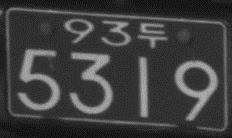1: (125, 55, 163, 119)
3: (67, 50, 114, 114), (100, 19, 132, 48)
5: (17, 47, 61, 112)
9: (173, 58, 219, 122), (62, 16, 95, 45)
두: (137, 21, 167, 48)
